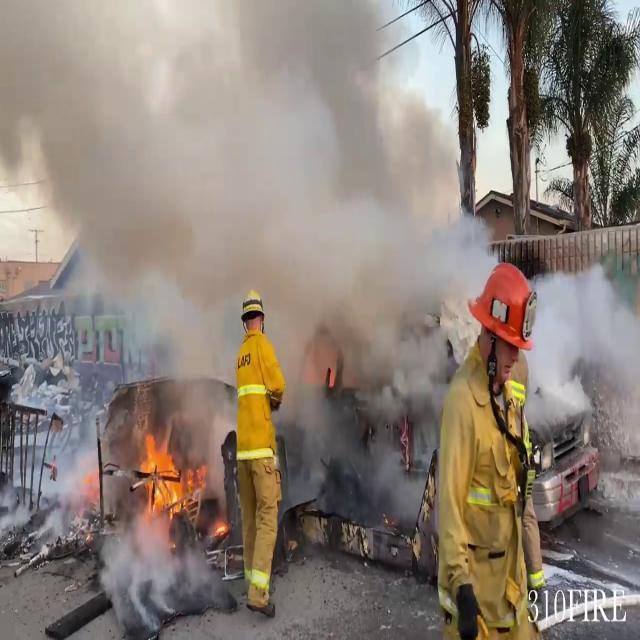Fire: (136, 421, 204, 523)
Smoke: (0, 0, 480, 454), (528, 244, 640, 466), (99, 504, 214, 628)
